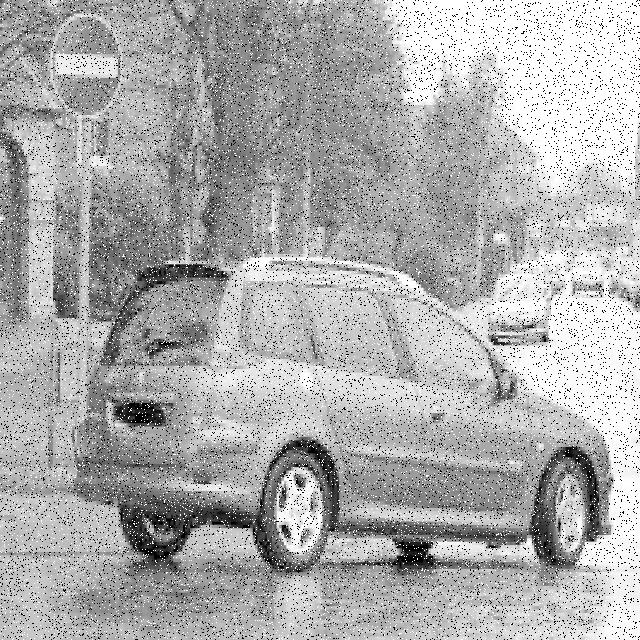no entry: (53, 13, 120, 112)
